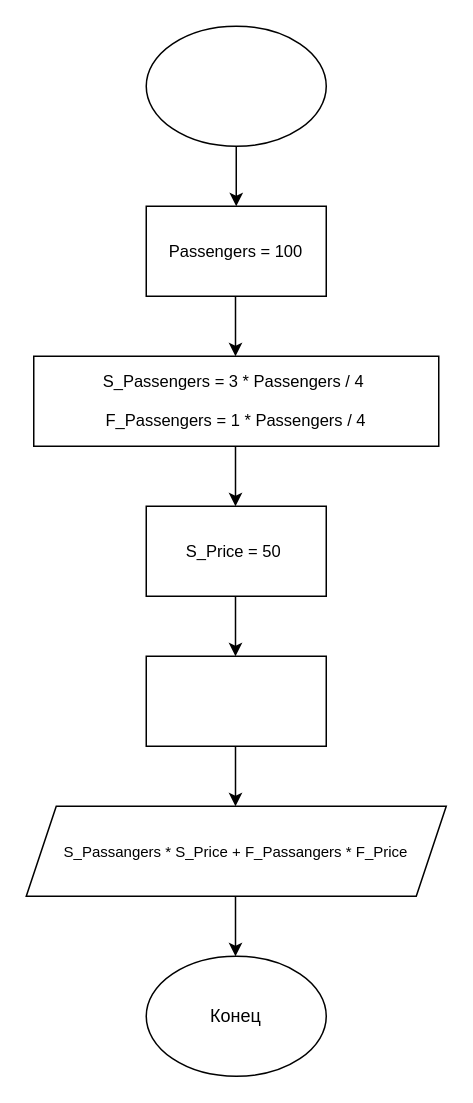
Some shapes in this 473 by 1103 pixel diagram are drawn without their labels. The centre of each missing label's shape, as x and y in pixels:
F_Price = 50 * 2: the point at 235,700
Начало: the point at 235,85
